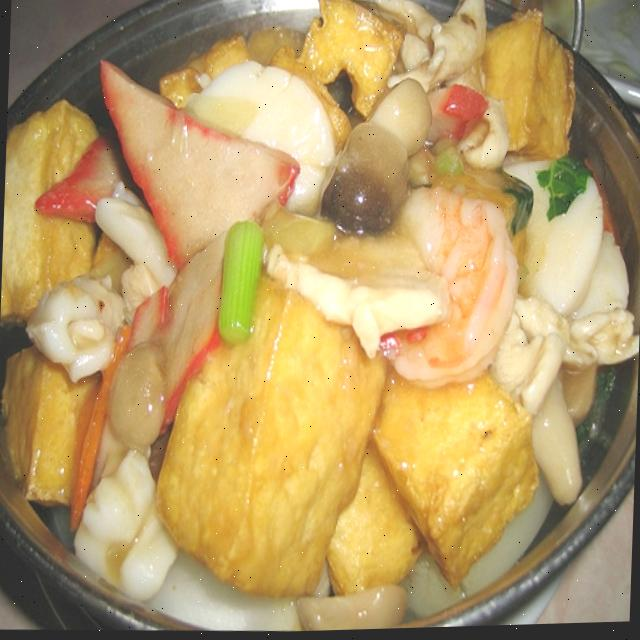汤锅炖物: (3, 0, 640, 631)
